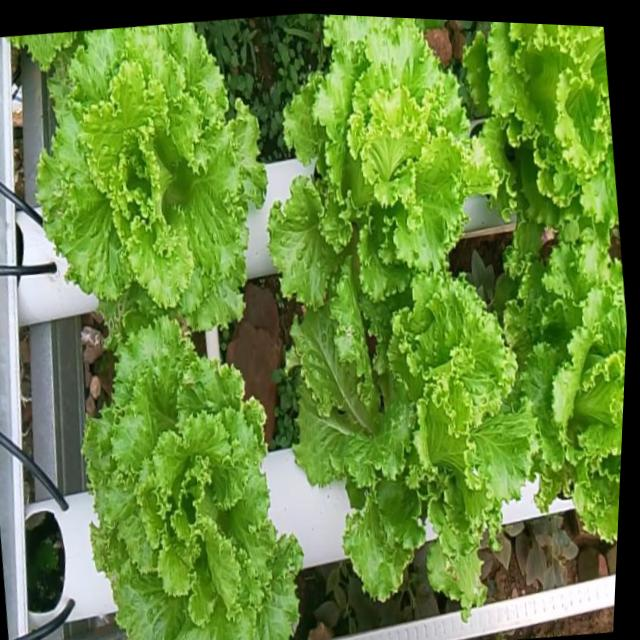Mature: (294, 276, 540, 614), (22, 23, 273, 333), (88, 318, 307, 640), (274, 15, 492, 330), (511, 249, 627, 549), (471, 22, 619, 250)
